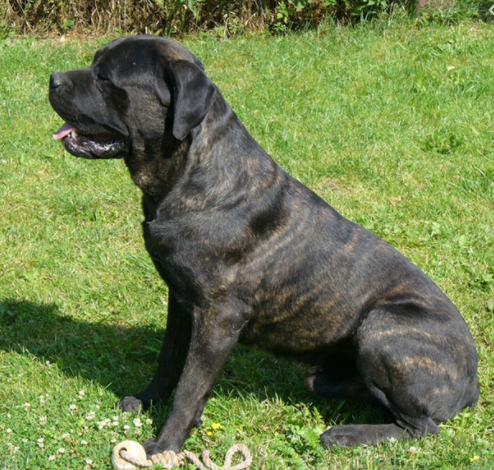dog: (38, 30, 474, 450)
